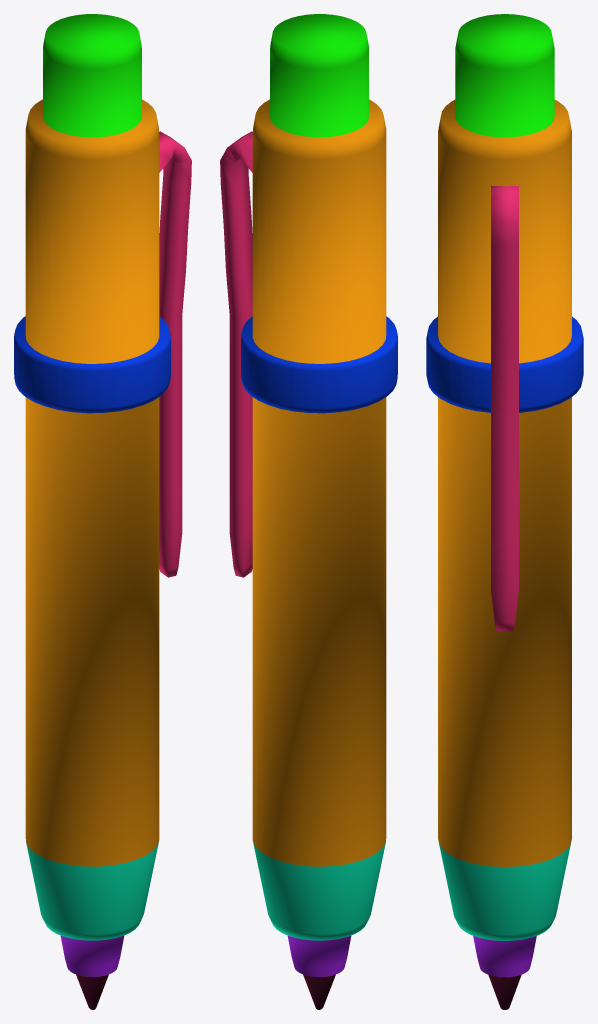
The model's file is pen_import.fbx.
3 views of the same model, side by side, from view 1: azimuth 30°, elevation 25°; view 2: azimuth 150°, elevation 25°; view 3: azimuth 270°, elevation 25° (orthographic).
Parts seen in each view (by area): view 1: Body, Klammer; view 2: Body, Klammer; view 3: Body, Klammer.
Part boxes in pixels (<box>): Body: <box>14,14,170,1009</box>; Klammer: <box>159,131,191,577</box>; Body: <box>241,14,397,1009</box>; Klammer: <box>220,131,252,577</box>; Body: <box>426,14,583,1009</box>; Klammer: <box>491,186,518,631</box>.
Size of the model in its own units: 46.92 by 272 by 39.77.
